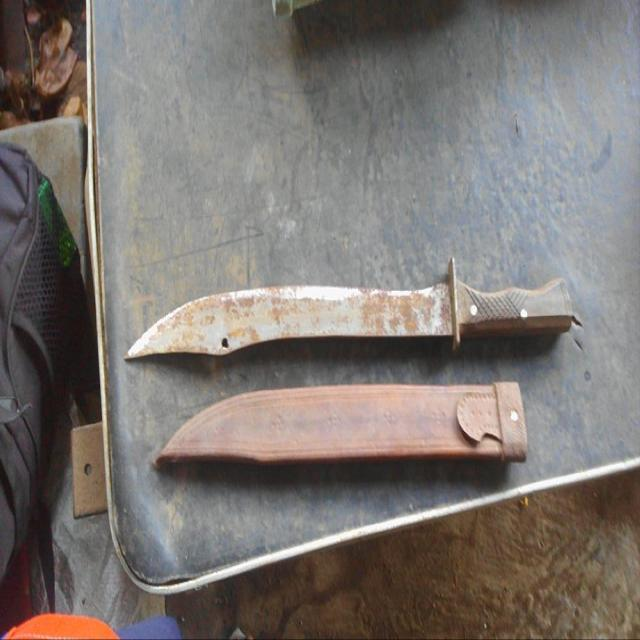Pisau: (114, 251, 579, 373)
